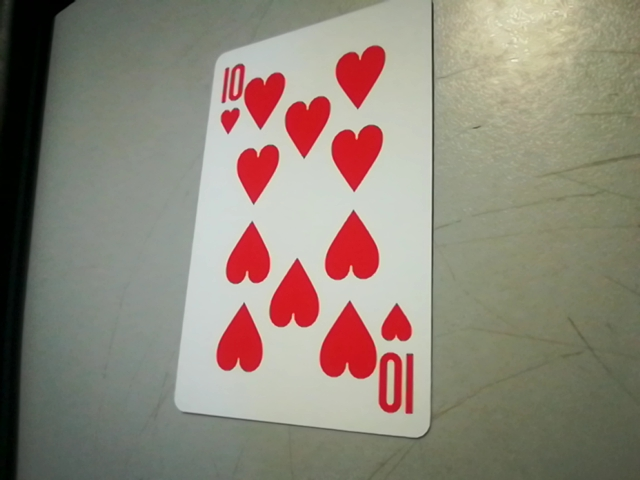hx 10: (376, 303, 429, 423)
